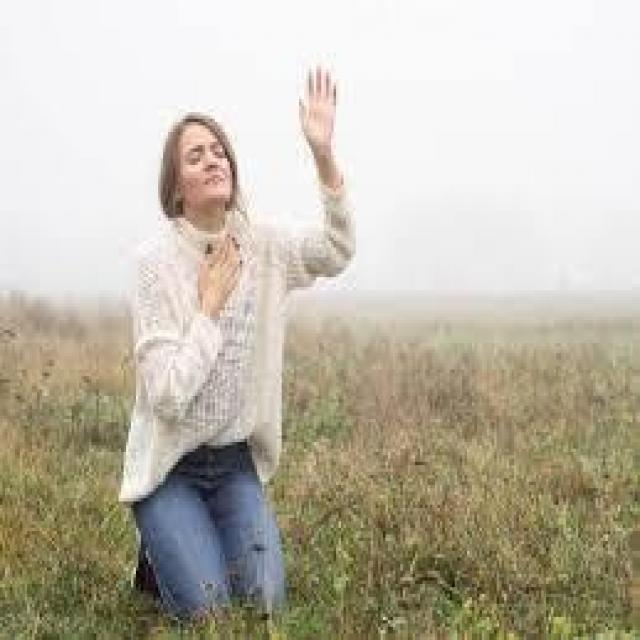person: (96, 33, 368, 627)
